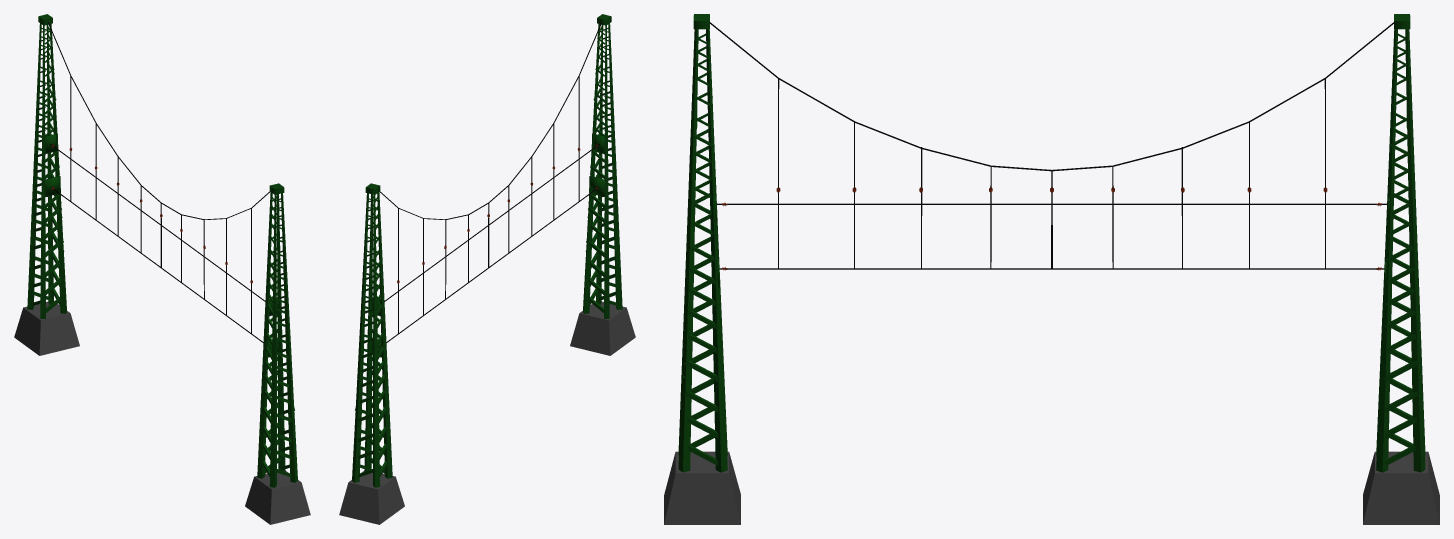
The model's file is Poles_1_14m.obj.
3 views of the same model, side by side, from view 1: azimuth 30°, elevation 25°; view 2: azimuth 150°, elevation 25°; view 3: azimuth 270°, elevation 25° (orthographic). The views are drawn at different scales.
Visible parts, largest first — view 1: PoleBig_Cube_Cube.004; view 2: PoleBig_Cube_Cube.004; view 3: PoleBig_Cube_Cube.004.
Boxes of the visible parts, x1,y1,x2,y2 form: PoleBig_Cube_Cube.004: [14, 14, 310, 524]; PoleBig_Cube_Cube.004: [339, 14, 635, 524]; PoleBig_Cube_Cube.004: [664, 14, 1439, 524].
Bounding box in the file's own units: 1.58 × 12.1 × 17.3.
